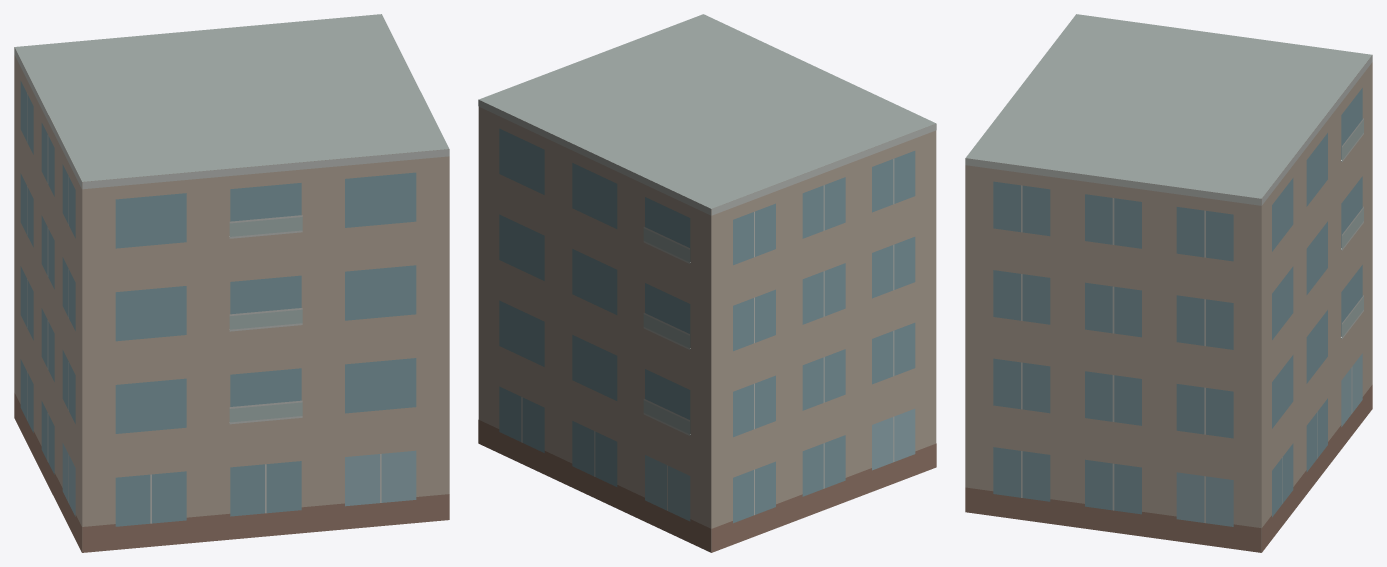
File: residential-db1244ad-ab06-4e94-9d98-ca8df0560431.glb
3 views of the same model, side by side, from view 1: azimuth 30°, elevation 25°; view 2: azimuth 150°, elevation 25°; view 3: azimuth 270°, elevation 25° (orthographic). The views are drawn at different scales.
Parts seen in each view (by area): view 1: residential-db1244ad-ab06-4e94-9d98-ca8df0560431.tmp; view 2: residential-db1244ad-ab06-4e94-9d98-ca8df0560431.tmp; view 3: residential-db1244ad-ab06-4e94-9d98-ca8df0560431.tmp.
Part boxes in pixels (bbox=[...]): residential-db1244ad-ab06-4e94-9d98-ca8df0560431.tmp: bbox=[14, 14, 449, 552]; residential-db1244ad-ab06-4e94-9d98-ca8df0560431.tmp: bbox=[478, 14, 936, 552]; residential-db1244ad-ab06-4e94-9d98-ca8df0560431.tmp: bbox=[965, 14, 1372, 552].
Bounding box in the file's own units: 13.67 × 12.2 × 12.72.
